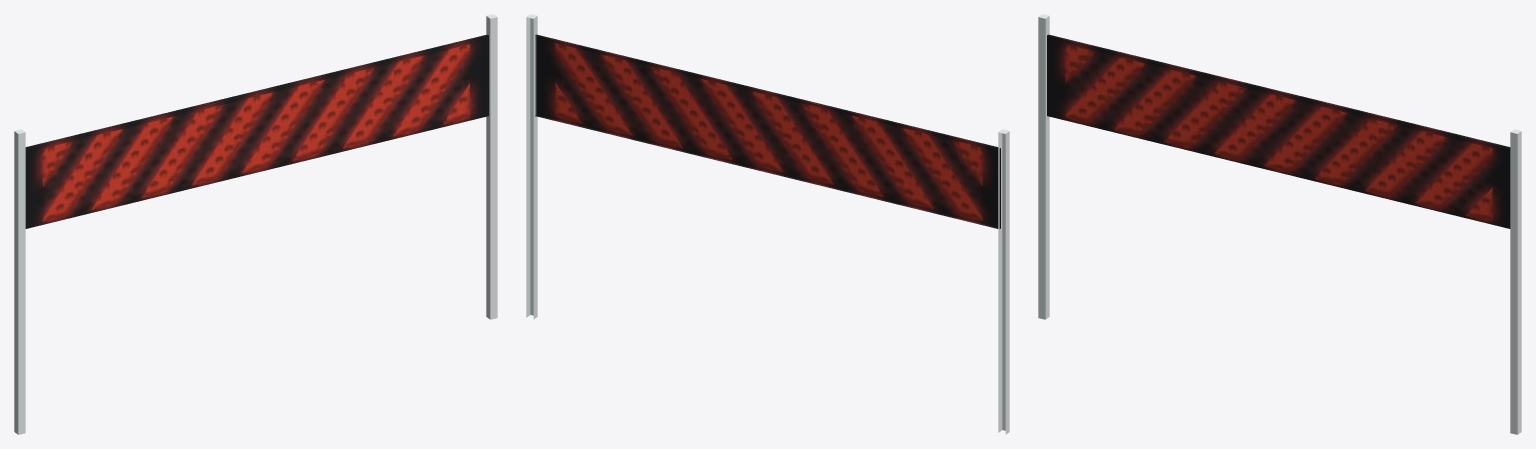
Rendered from Checkpoint_2.FBX.
3 views of the same model, side by side, from view 1: azimuth 30°, elevation 25°; view 2: azimuth 150°, elevation 25°; view 3: azimuth 330°, elevation 25° (orthographic).
Parts seen in each view (by area): view 1: Chekpoint_2; view 2: Chekpoint_2; view 3: Chekpoint_2.
Boxes of the visible parts, <box> form: Chekpoint_2: <box>14,14,497,434</box>; Chekpoint_2: <box>526,14,1009,434</box>; Chekpoint_2: <box>1038,14,1521,434</box>.
Bounding box in the file's own units: 19.36 × 11.62 × 0.2957.
